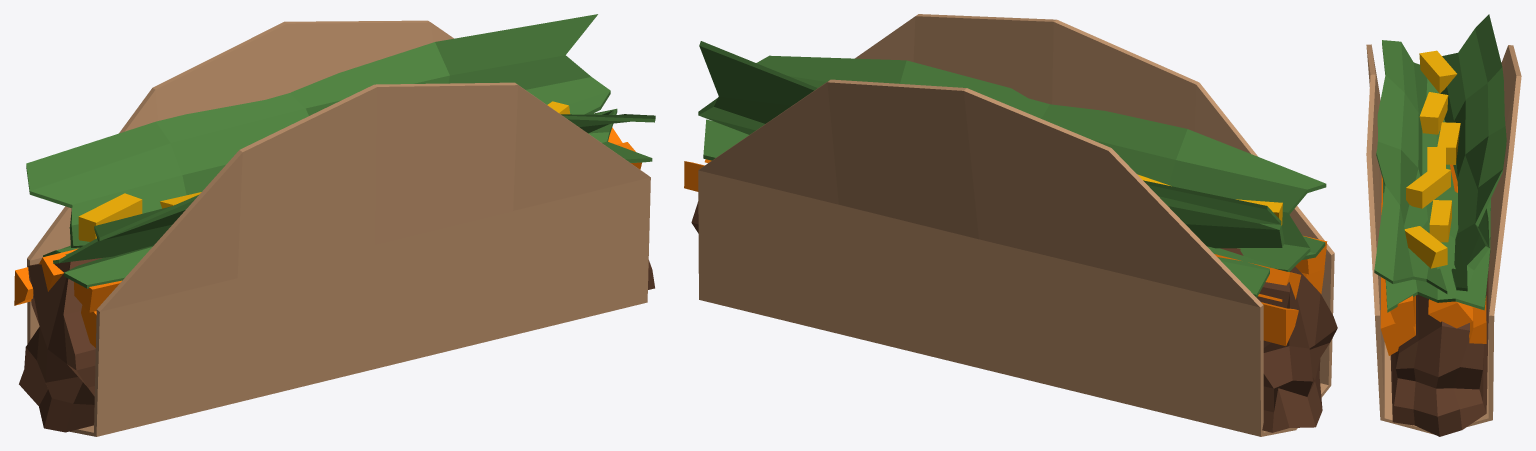
File: SM_Food_Taco_01.fbx
3 renders of one model, left to right at view 1: azimuth 30°, elevation 25°; view 2: azimuth 150°, elevation 25°; view 3: azimuth 270°, elevation 25°, orthographic. The views are drawn at different scales.
Visible parts, largest first — view 1: SM_Food_Taco_01; view 2: SM_Food_Taco_01; view 3: SM_Food_Taco_01.
Boxes of the visible parts, x1,y1,x2,y2 form: SM_Food_Taco_01: [14, 14, 655, 436]; SM_Food_Taco_01: [684, 14, 1337, 436]; SM_Food_Taco_01: [1366, 14, 1521, 436].
Size of the model in its own units: 0.266 by 0.1307 by 0.0734.
